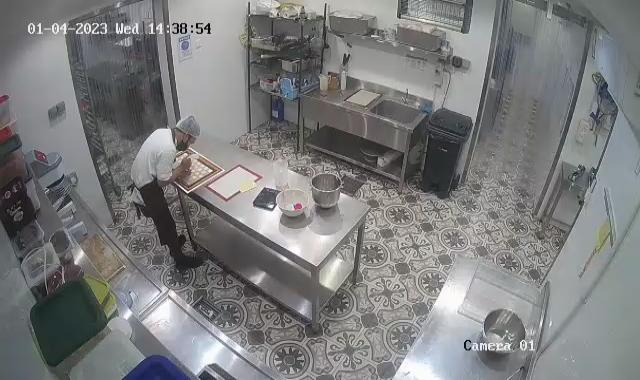hairnet: (177, 113, 200, 141)
